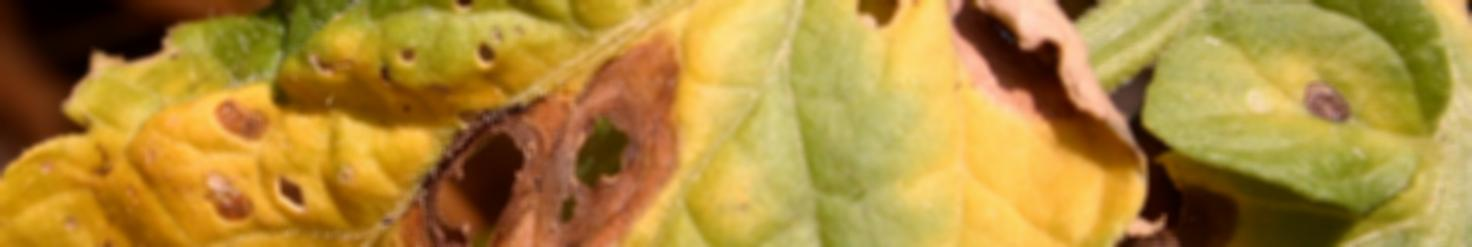Tomato Early blight leaf: (0, 0, 1035, 247)
